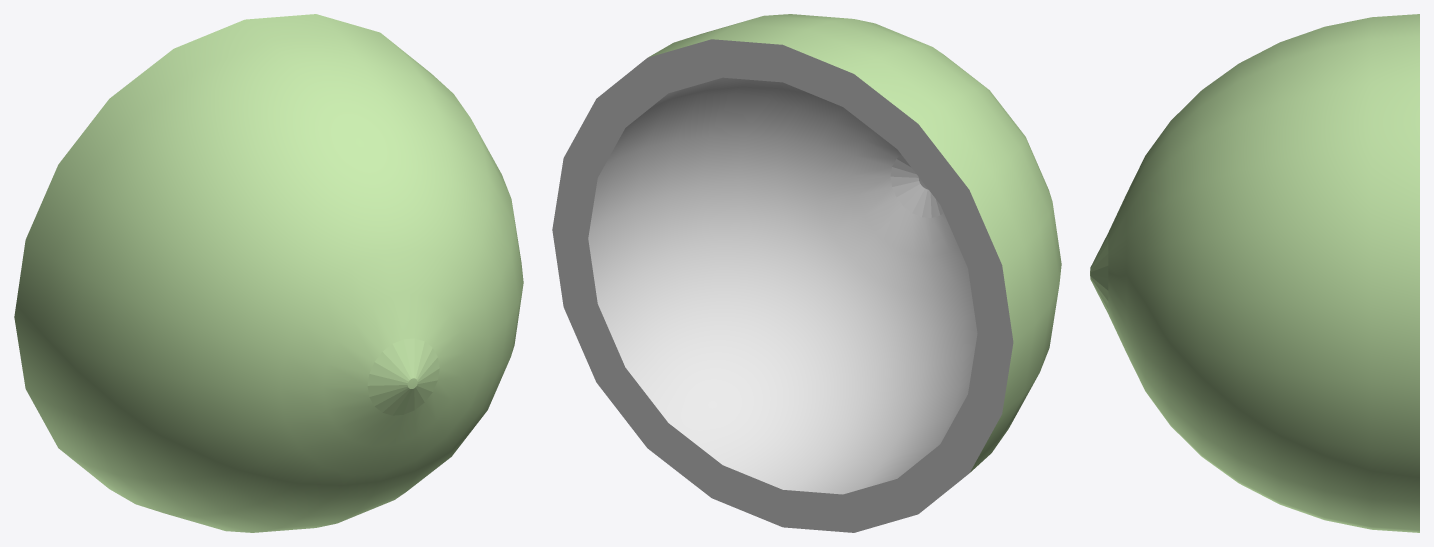
Rendered from coconut_front.fbx.
The picture shows the model from 3 angles, left to right: view 1: azimuth 30°, elevation 25°; view 2: azimuth 150°, elevation 25°; view 3: azimuth 270°, elevation 25°; orthographic projection.
Visible parts, largest first — view 1: pasted__coconut; view 2: pasted__coconut; view 3: pasted__coconut.
Part boxes in pixels (<box>): pasted__coconut: <box>14,14,523,532</box>; pasted__coconut: <box>552,14,1061,532</box>; pasted__coconut: <box>1090,14,1419,532</box>.
Bounding box in the file's own units: 2.68 × 2.68 × 1.69.
